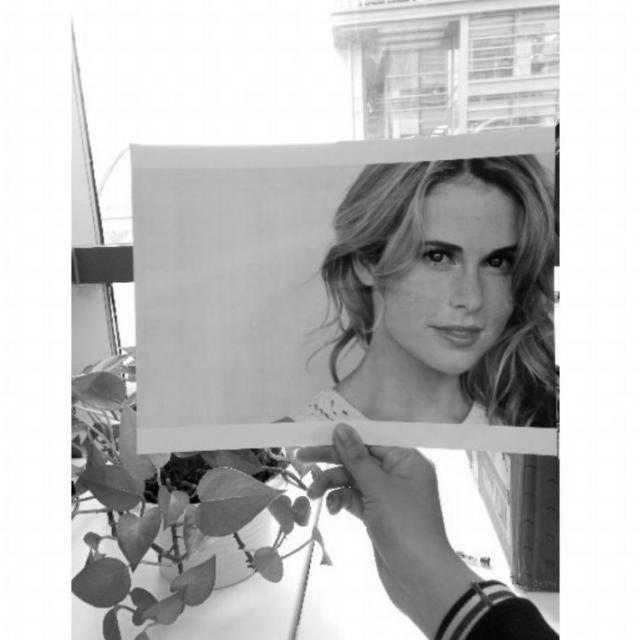fake: (118, 122, 556, 472)
